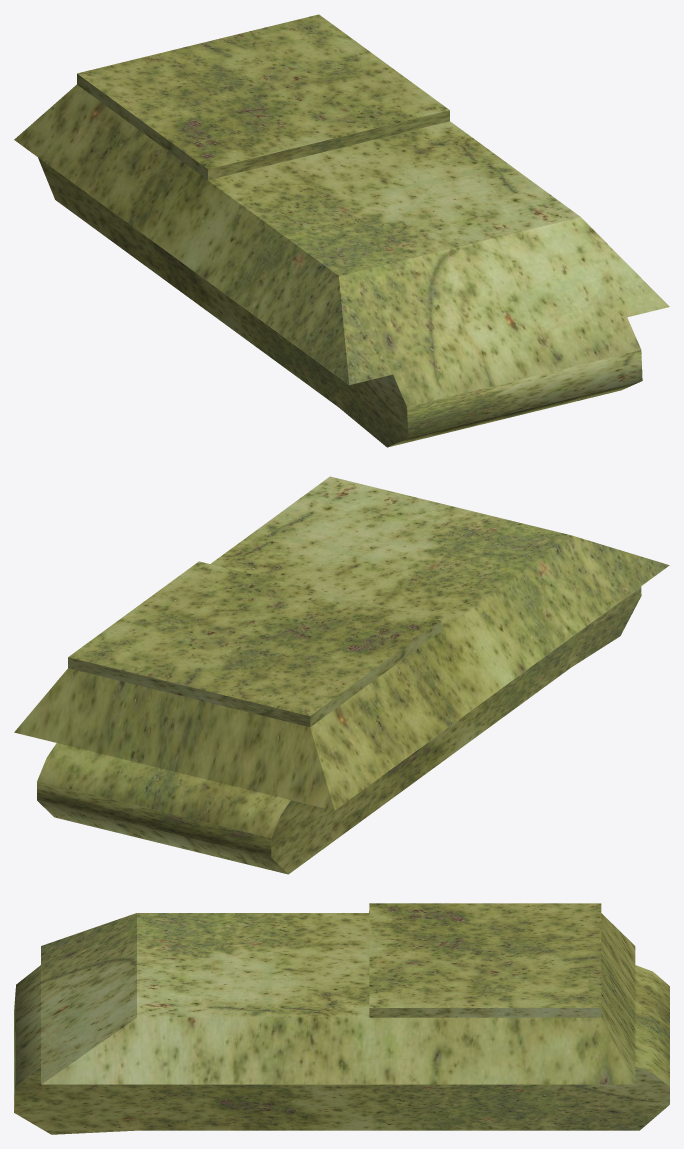
Rendered from Корпус.FBX.
3 renders of one model, top to bottom at view 1: azimuth 30°, elevation 25°; view 2: azimuth 150°, elevation 25°; view 3: azimuth 270°, elevation 25°, orthographic. The views are drawn at different scales.
Visible parts, largest first — view 1: Корпус; view 2: Корпус; view 3: Корпус.
Part boxes in pixels (x1,y1,x2,y2): Корпус: (14, 14, 669, 447); Корпус: (14, 476, 669, 874); Корпус: (14, 903, 669, 1134).
Bounding box in the file's own units: 4.25 × 1.86 × 8.49.
